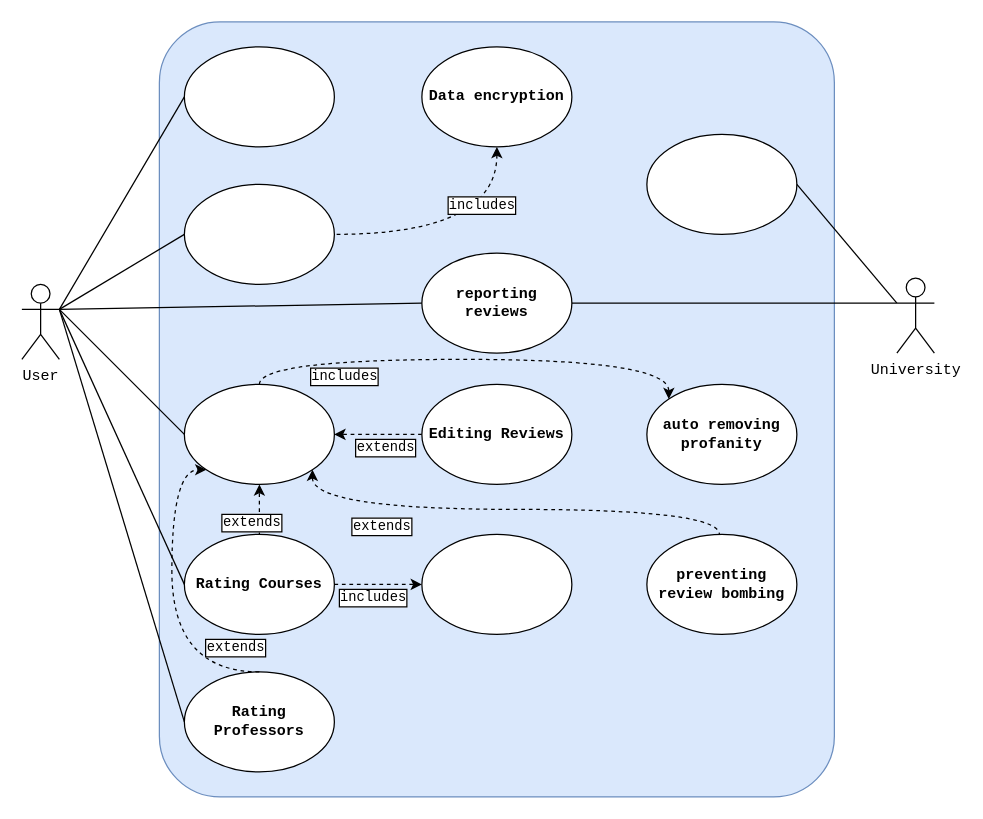
The diagram is 983 pixels wide and 819 high, and some of its shapes have lost their labels. Here are the shapes that lost their labels. From the top down, the centre of each, then its label:
At (x=258, y=96): "Filitered search on parameters".
At (x=721, y=183): "Admin data Analytics".
At (x=258, y=233): "User authentication".
At (x=258, y=433): "Writing out a Review".
At (x=496, y=583): "Parameterized Rating".
